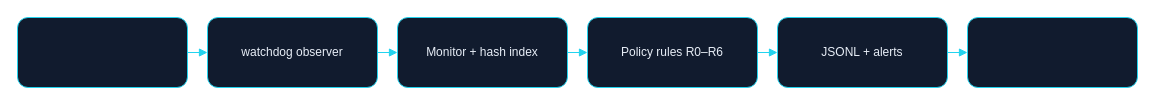
Image size: 1155x105. Some labels were removed from this diagram. Each missing label, with the box of its shape:
Audit report MD / HTML / CSV: (966, 16, 1138, 88)
Configured folders: (16, 16, 188, 88)
